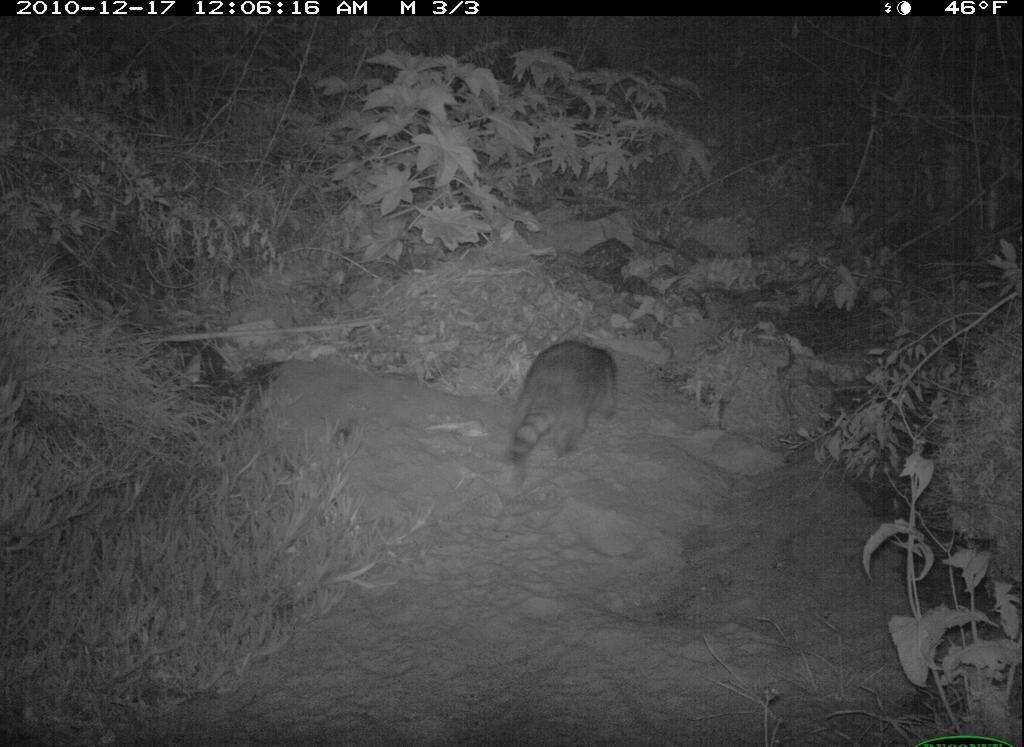raccoon: (511, 315, 633, 478)
